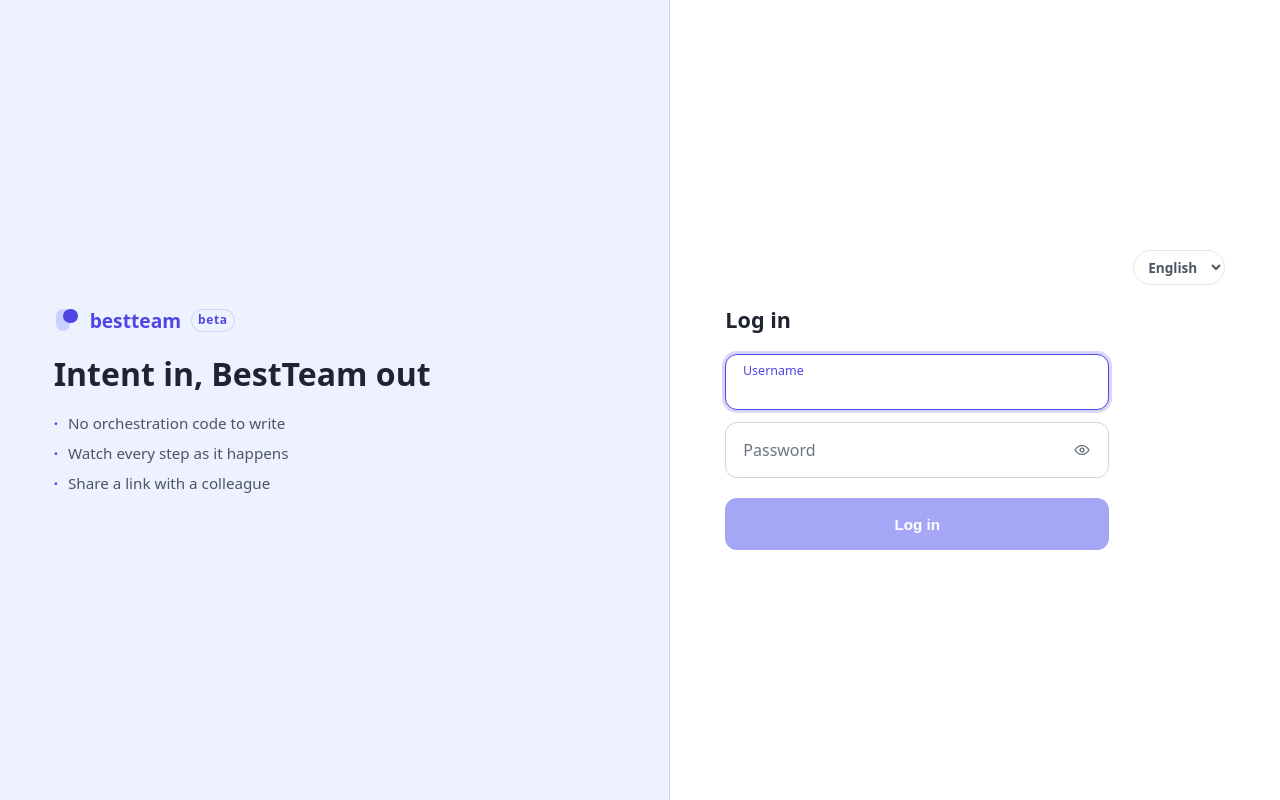
Test: LoginPage › renders a failed login in a .banner-error, which e2e waits for
Type "alice" into the field labelled "Username" at (917, 382), box [726,355,1108,409]
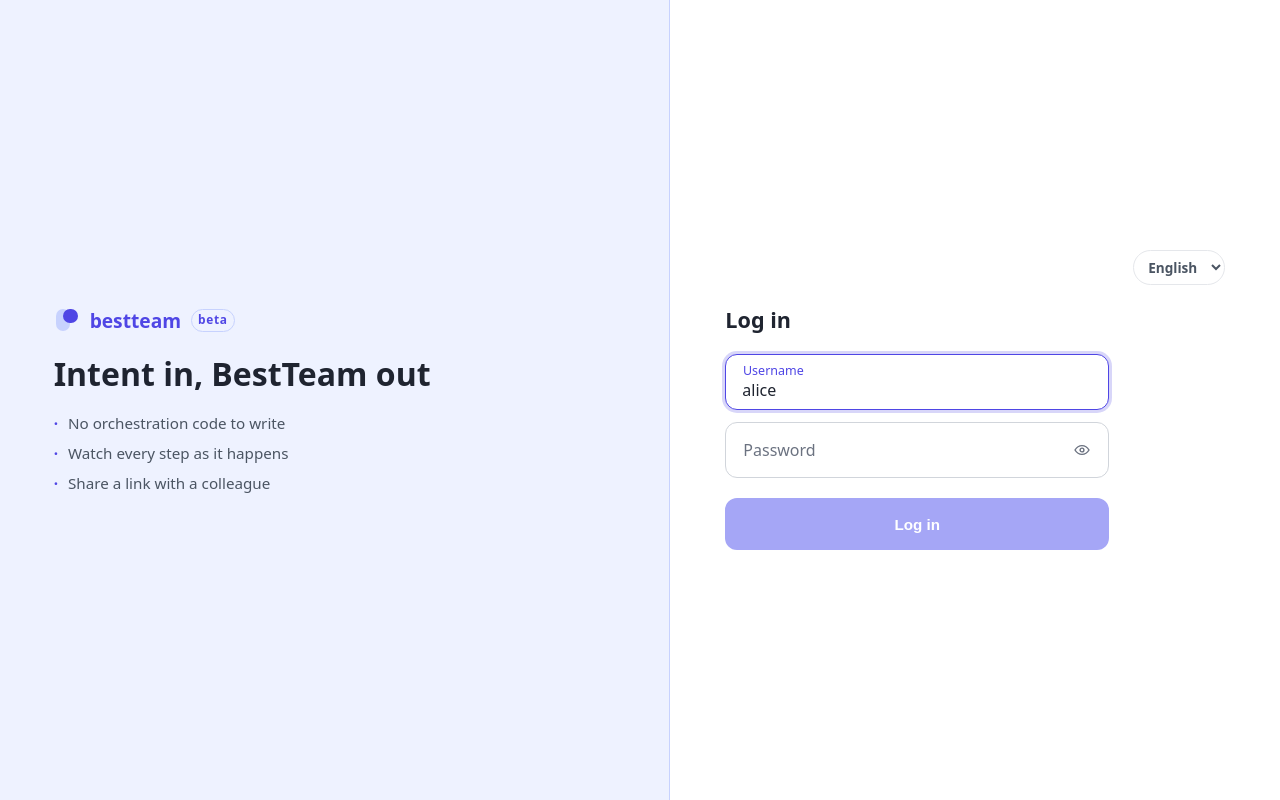
Type "nope" into the password field labelled "Password" at (917, 450), box [726,423,1108,477]
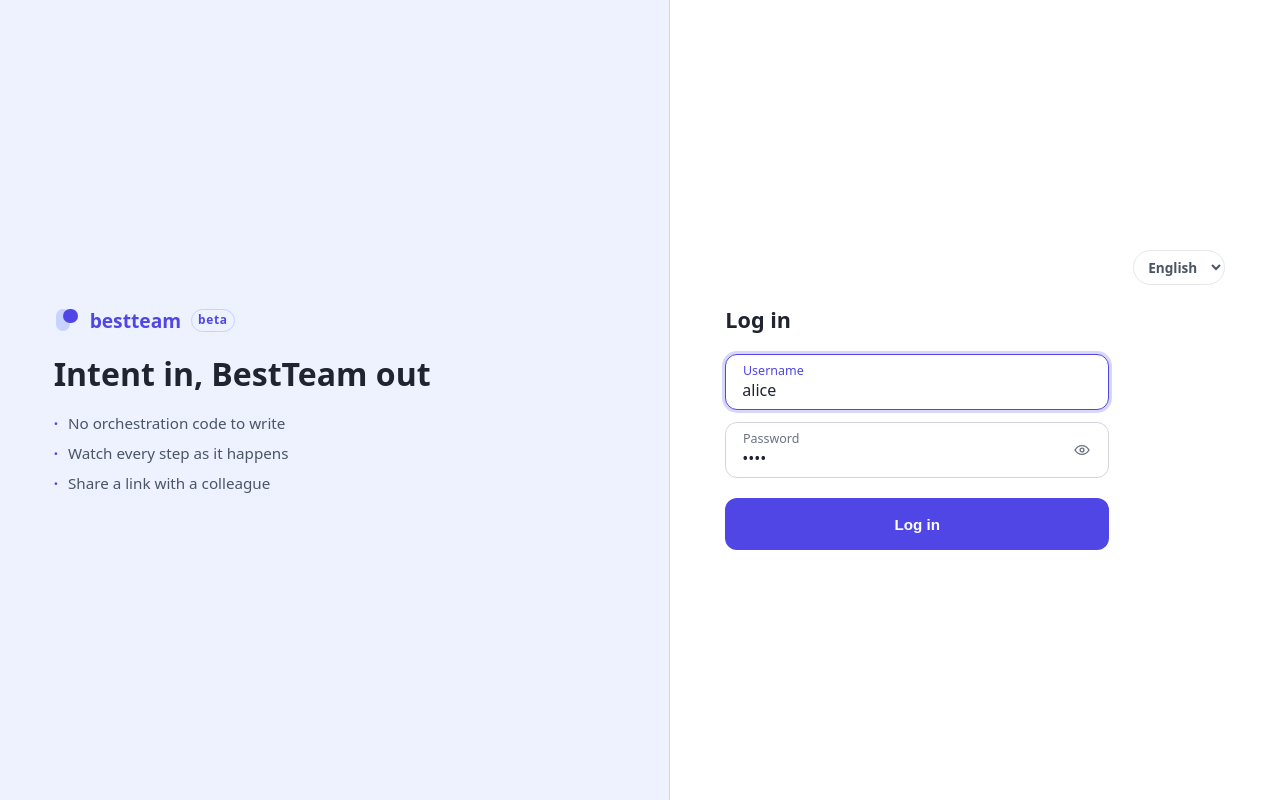
Click the submit button at (917, 524), box [725,498,1109,550]
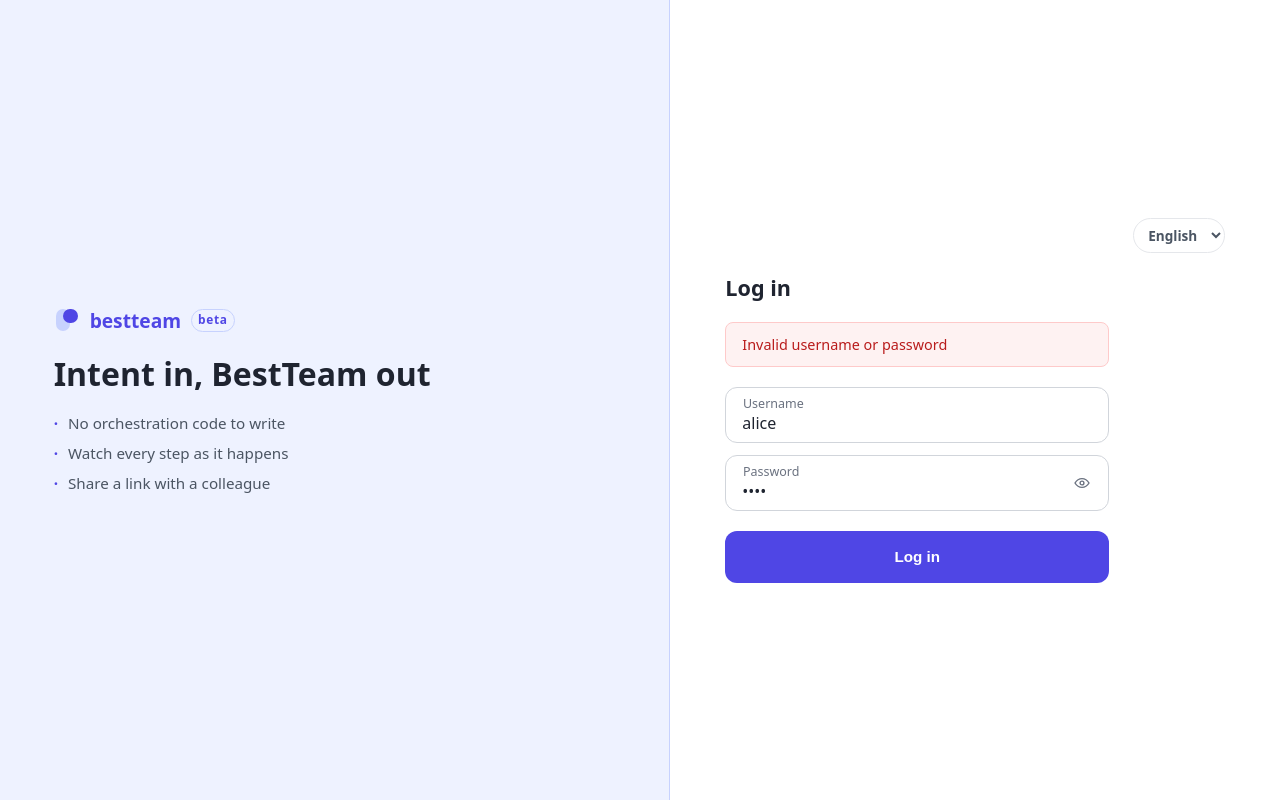
Now the text with class "banner-error" reads "Invalid username or password", box [742,334,947,354]
